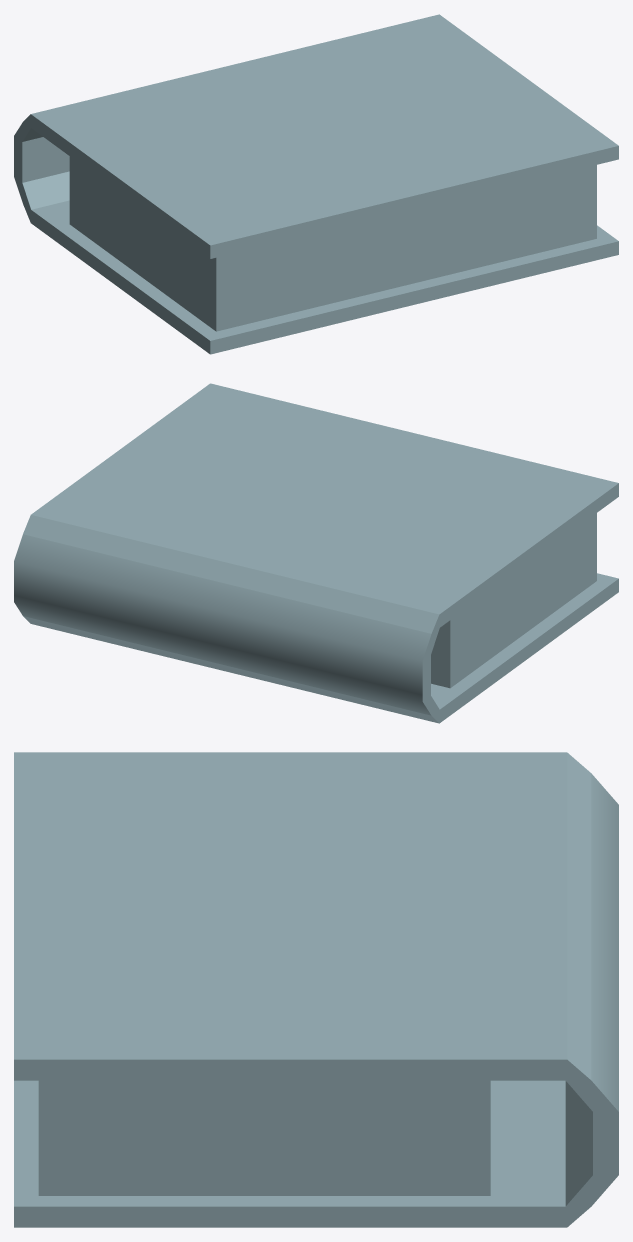
File: Libro 1.fbx
The picture shows the model from 3 angles, top to bottom: view 1: azimuth 30°, elevation 25°; view 2: azimuth 150°, elevation 25°; view 3: azimuth 270°, elevation 25°; orthographic projection. The views are drawn at different scales.
Visible parts, largest first — view 1: polySurface3513; view 2: polySurface3513; view 3: polySurface3513.
Part boxes in pixels (x1,y1,x2,y2): polySurface3513: (14, 14, 618, 354); polySurface3513: (14, 383, 618, 723); polySurface3513: (14, 752, 618, 1227).
Bounding box in the file's own units: 2.93 × 0.7472 × 2.44.
